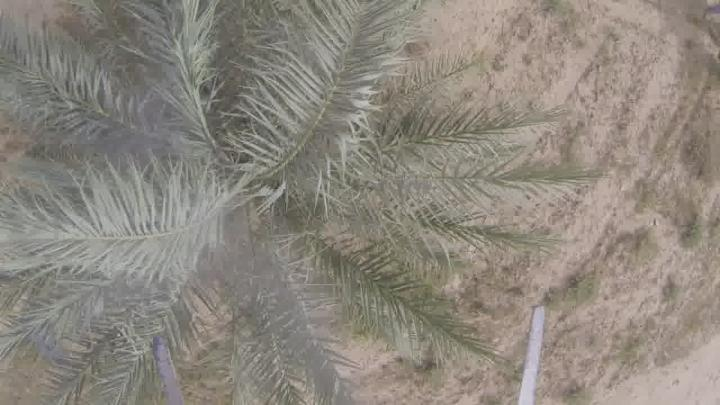Date-Palm-Crown: (51, 54, 414, 384)
